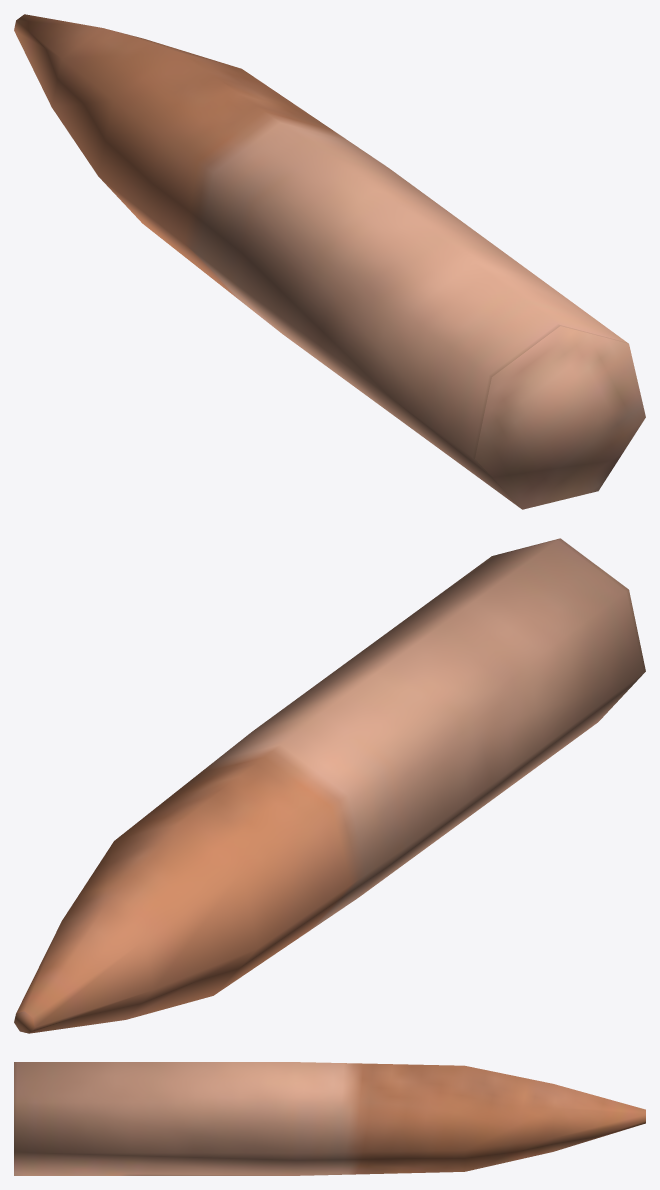
The model's file is MOSIN_bullet.glb.
3 views of the same model, one above another, from view 1: azimuth 30°, elevation 25°; view 2: azimuth 150°, elevation 25°; view 3: azimuth 270°, elevation 25° (orthographic). The views are drawn at different scales.
Visible parts, largest first — view 1: LP.002; view 2: LP.002; view 3: LP.002.
Part boxes in pixels (left/top/right/bottom): LP.002: left=14, top=14, right=645, bottom=509; LP.002: left=14, top=538, right=645, bottom=1033; LP.002: left=14, top=1062, right=645, bottom=1175.
Bounding box in the file's own units: 0.048 × 0.0468 × 0.2606.
Materials: 1 (1 with a texture image).
